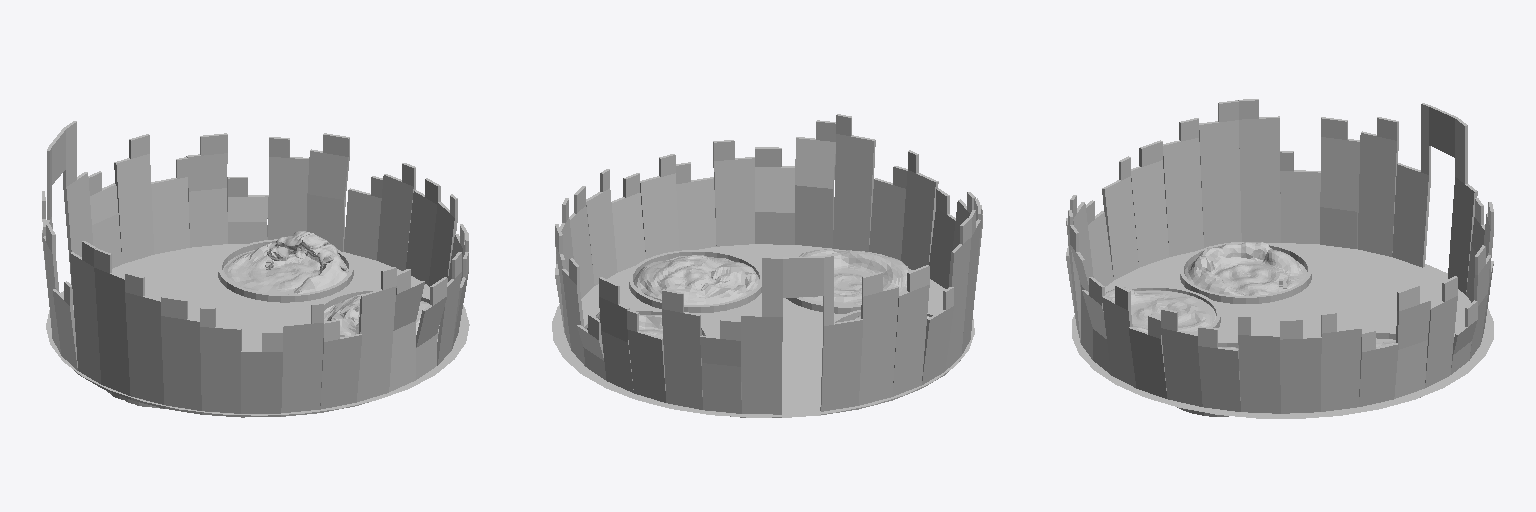
File: piso.obj
The picture shows the model from 3 angles: view 1: azimuth 30°, elevation 25°; view 2: azimuth 150°, elevation 25°; view 3: azimuth 270°, elevation 25°; orthographic projection.
Visible parts, largest first — view 1: Circle, Circle.001, Circle.002, Circle.005, Circle.003; view 2: Circle, Circle.001, Circle.003, Circle.004, Circle.005; view 3: Circle, Circle.001, Circle.006, Circle.004, Circle.005.
Part boxes in pixels (x1,y1,x2,y2): Circle: (42,121,468,417); Circle.001: (46,244,469,415); Circle.002: (222,231,348,294); Circle.005: (218,239,438,338); Circle.003: (324,294,439,336); Circle: (555,114,982,417); Circle.001: (552,244,974,417); Circle.003: (633,255,759,304); Circle.004: (799,249,908,305); Circle.005: (584,250,934,335); Circle: (1066,99,1493,413); Circle.001: (1072,243,1493,418); Circle.006: (1184,242,1307,295); Circle.004: (1105,287,1215,333); Circle.005: (1129,242,1395,347).
Bounding box in the file's own units: 212 × 95.32 × 211.